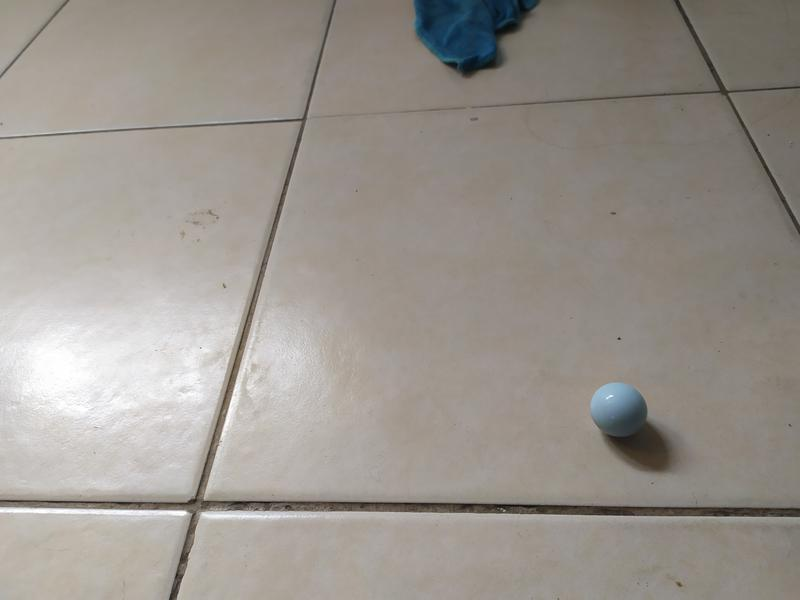Warning: (588, 380, 650, 441)
